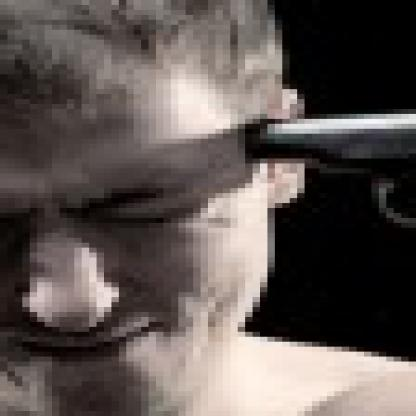gun: (223, 89, 408, 347)
